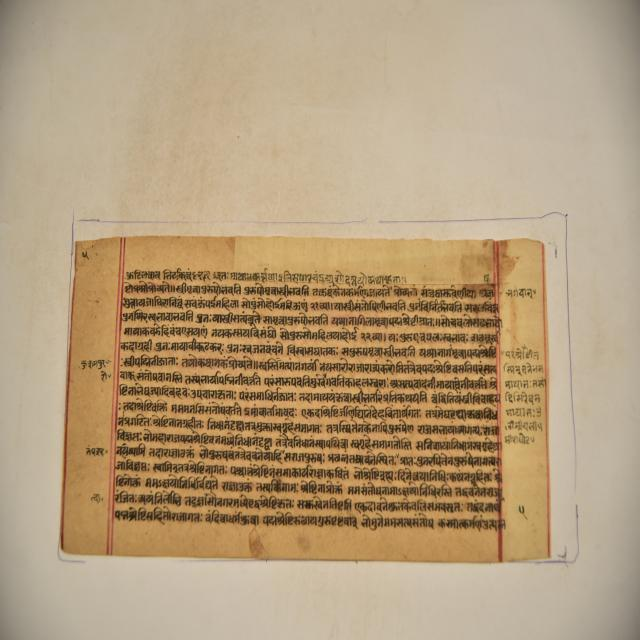text_paragraph: (60, 233, 550, 564)
